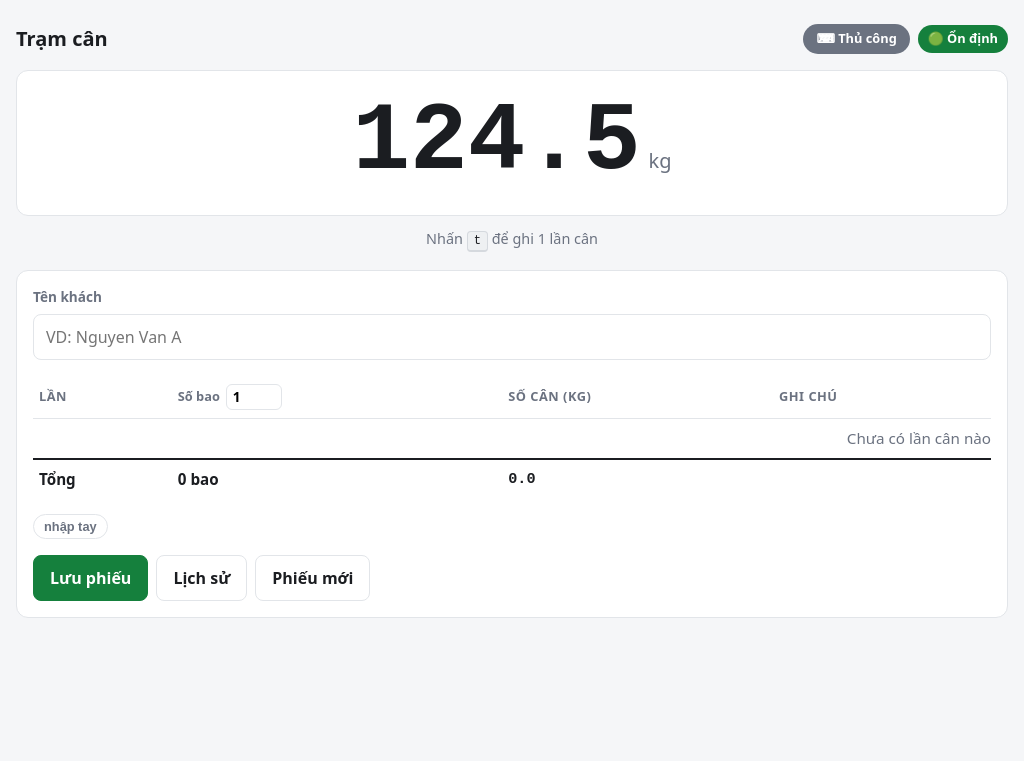
WeighScreen › chỉ hiện 3 lần cân cuối và mở rộng được bằng nút xem tất cả
This screenshot has width=1024, height=761.
Type keys "t"
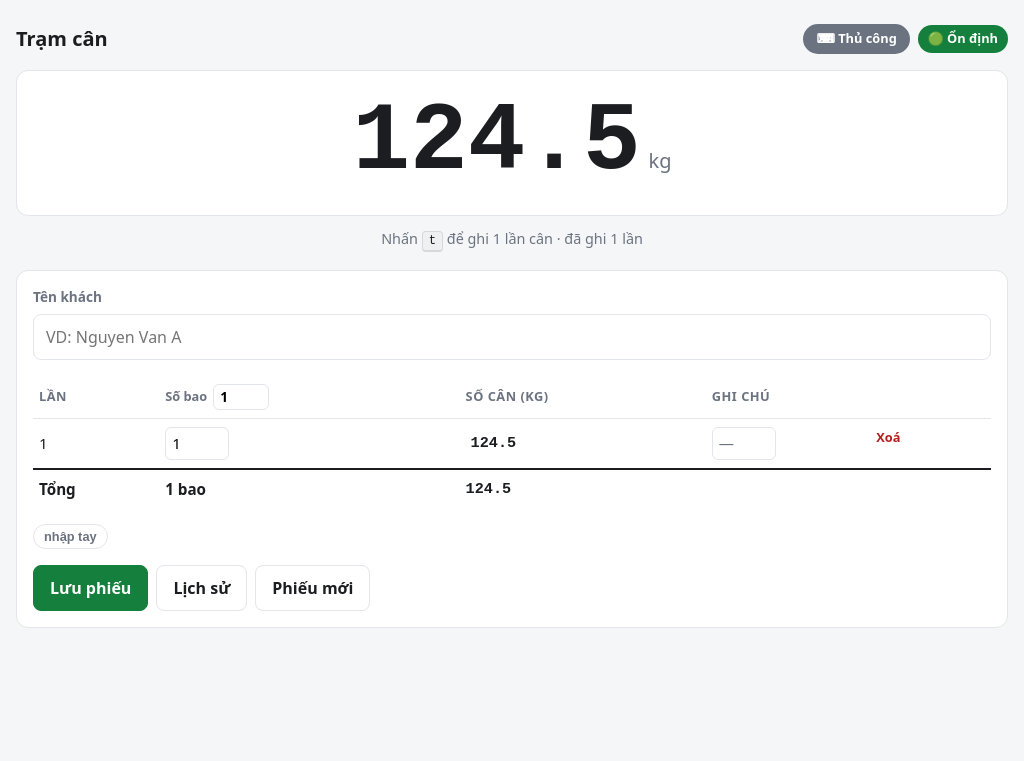
Type keys "t"
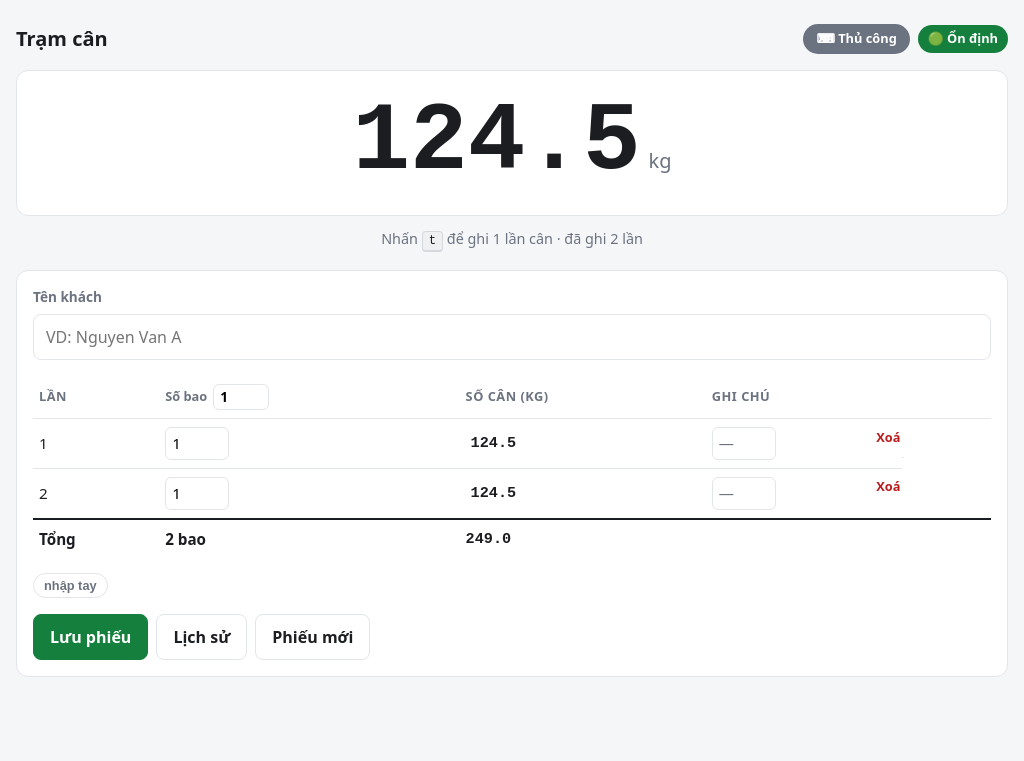
Type keys "t"
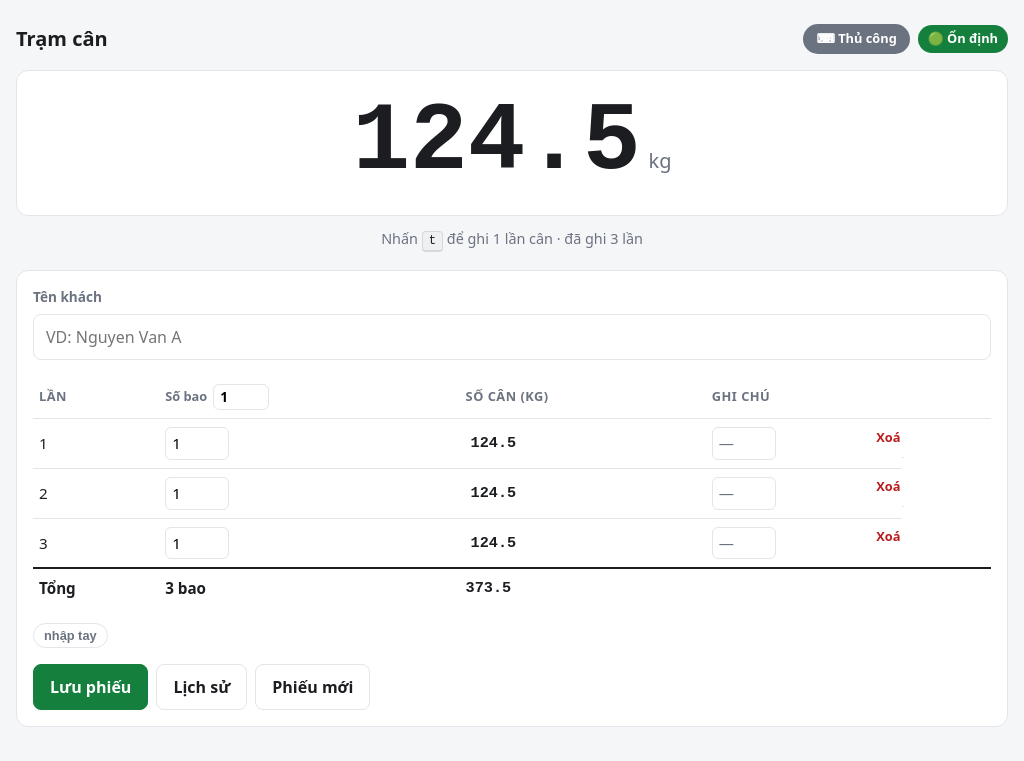
Type keys "t"
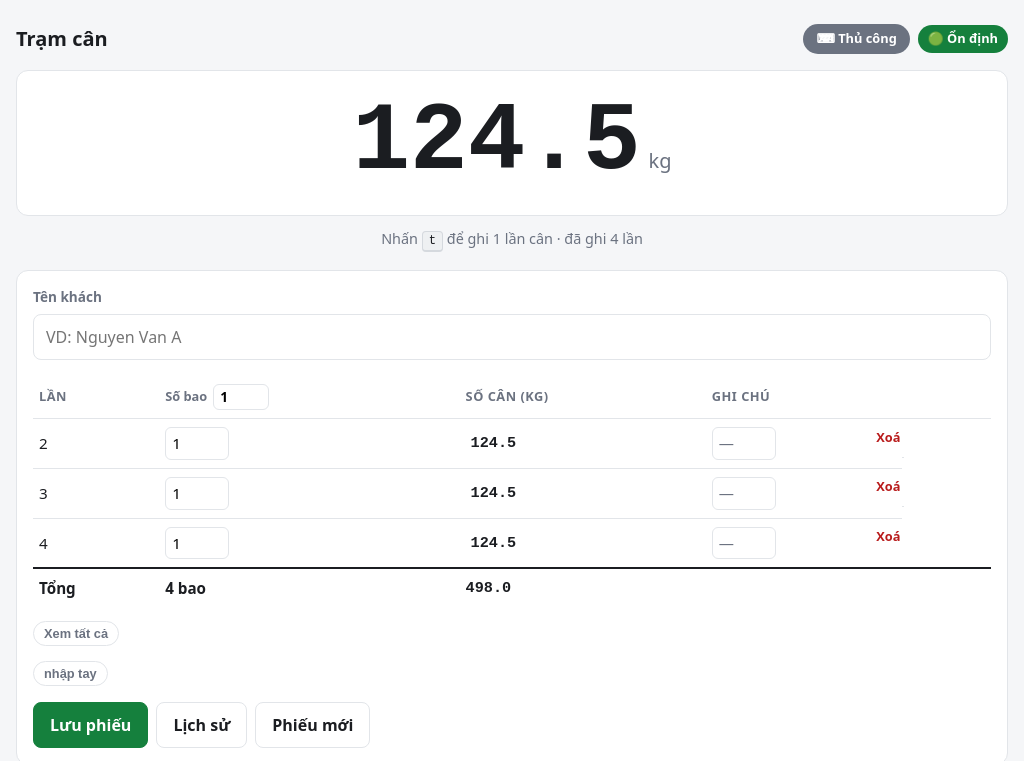
Type keys "t"
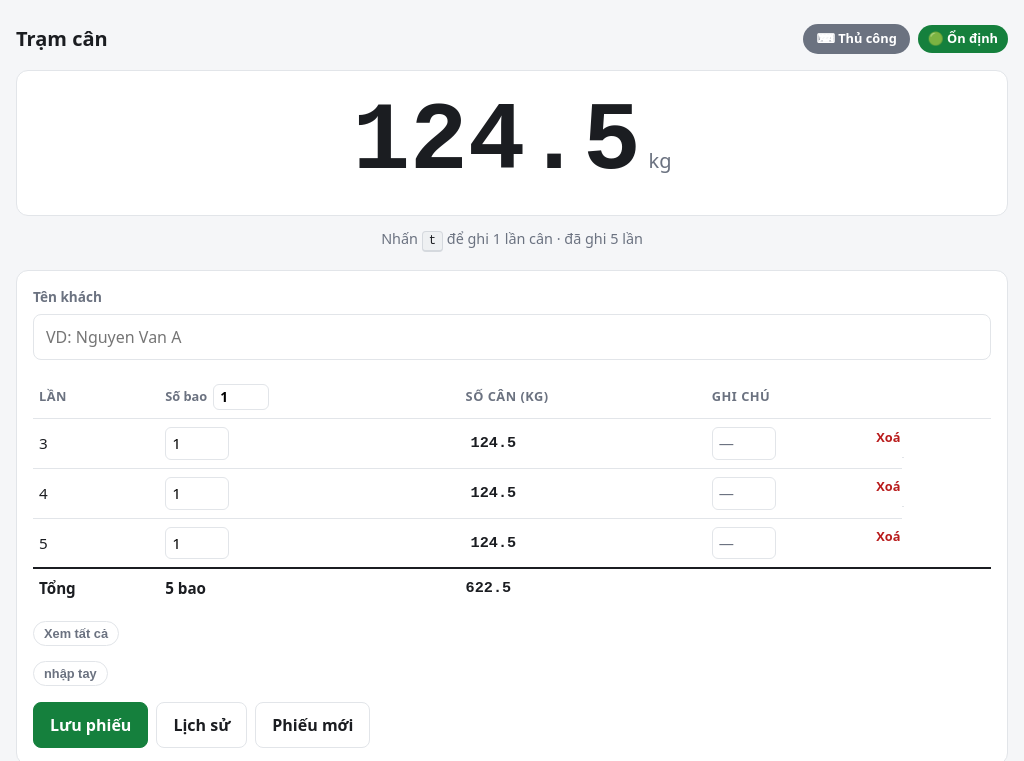
Expected: the number field named "Số bao lần 5" is shown, [165,527,229,560]
Result: the number field named "Số bao lần 3" is shown at [165,427,229,460]
Result: the button "Xem tất cả" is shown
Click the button "Xem tất cả" at (76, 634), box [33,621,119,646]
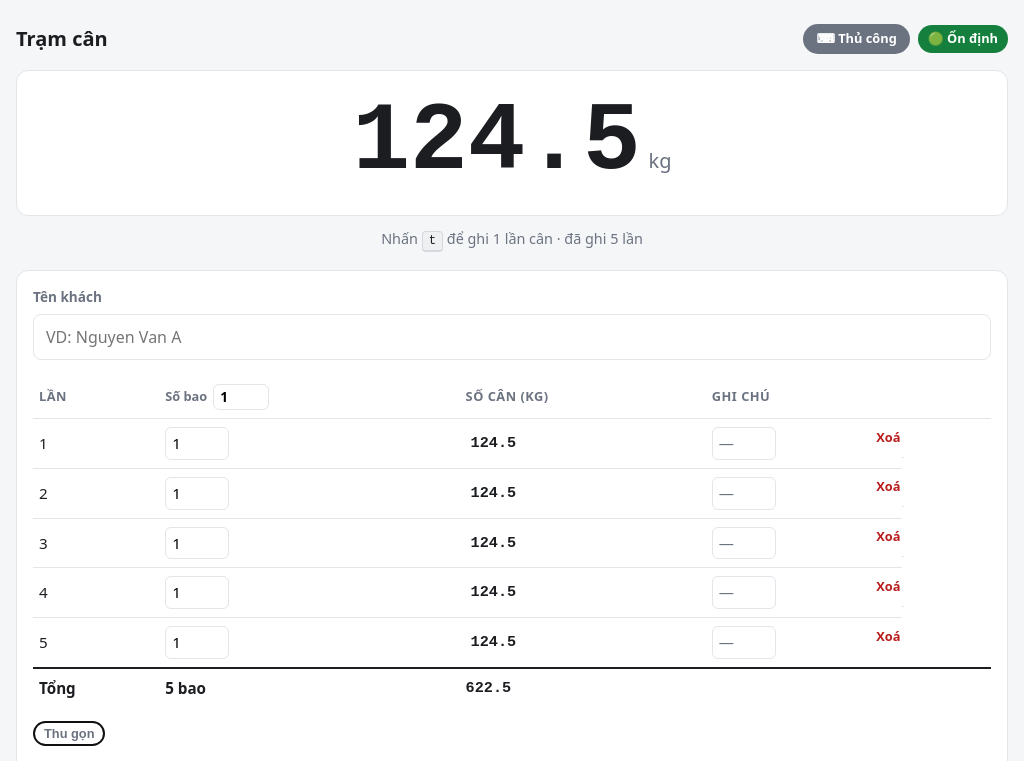
Expected: the number field named "Số bao lần 1" is shown, [165,427,229,460]
Result: the button "Thu gọn" is shown at [33,721,106,746]
